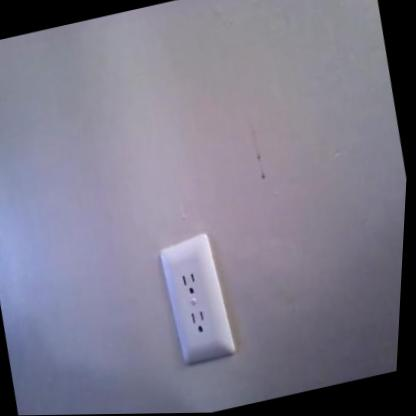OUTLET: (154, 232, 237, 364)
